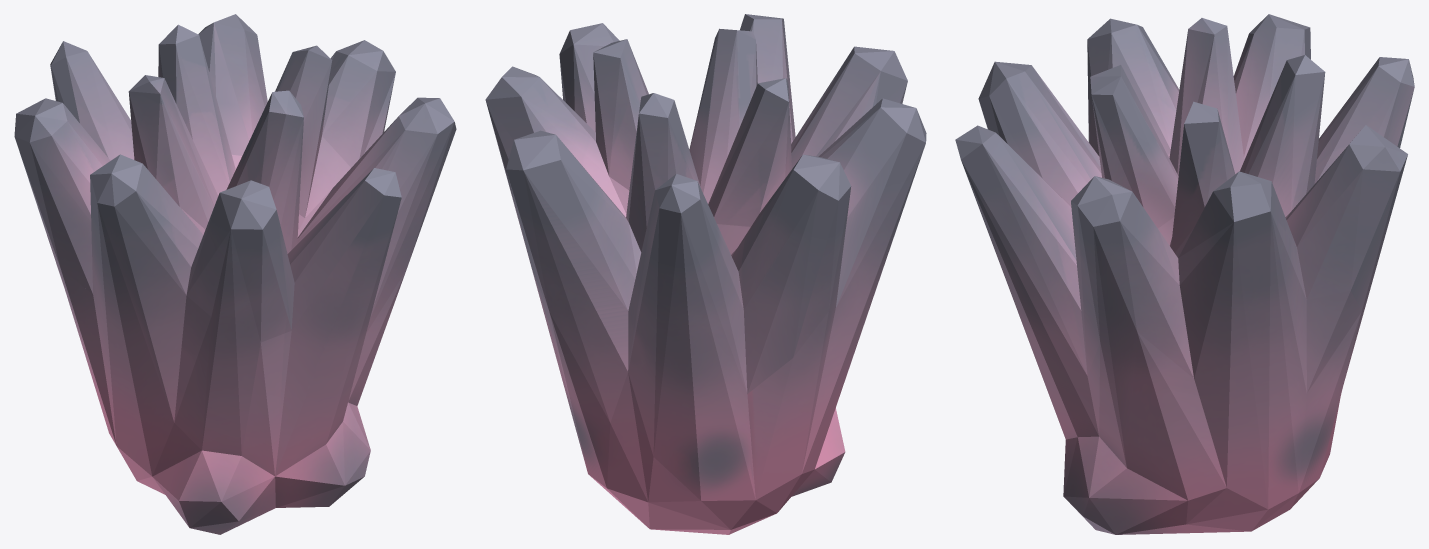
Rendered from flowerhead.dae.
The picture shows the model from 3 angles, left to right: view 1: azimuth 30°, elevation 25°; view 2: azimuth 150°, elevation 25°; view 3: azimuth 270°, elevation 25°; orthographic projection. The views are drawn at different scales.
Visible parts, largest first — view 1: flowerhead; view 2: flowerhead; view 3: flowerhead.
Part boxes in pixels (left/top/right/bottom): flowerhead: left=14, top=14, right=456, bottom=534; flowerhead: left=485, top=14, right=926, bottom=534; flowerhead: left=955, top=14, right=1414, bottom=534.
Size of the model in its own units: 1.86 by 1.97 by 2.22.
1 material, 1 textured.
